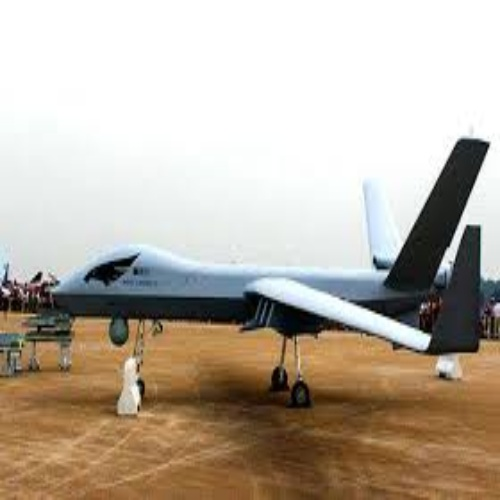uav: (42, 141, 489, 414)
